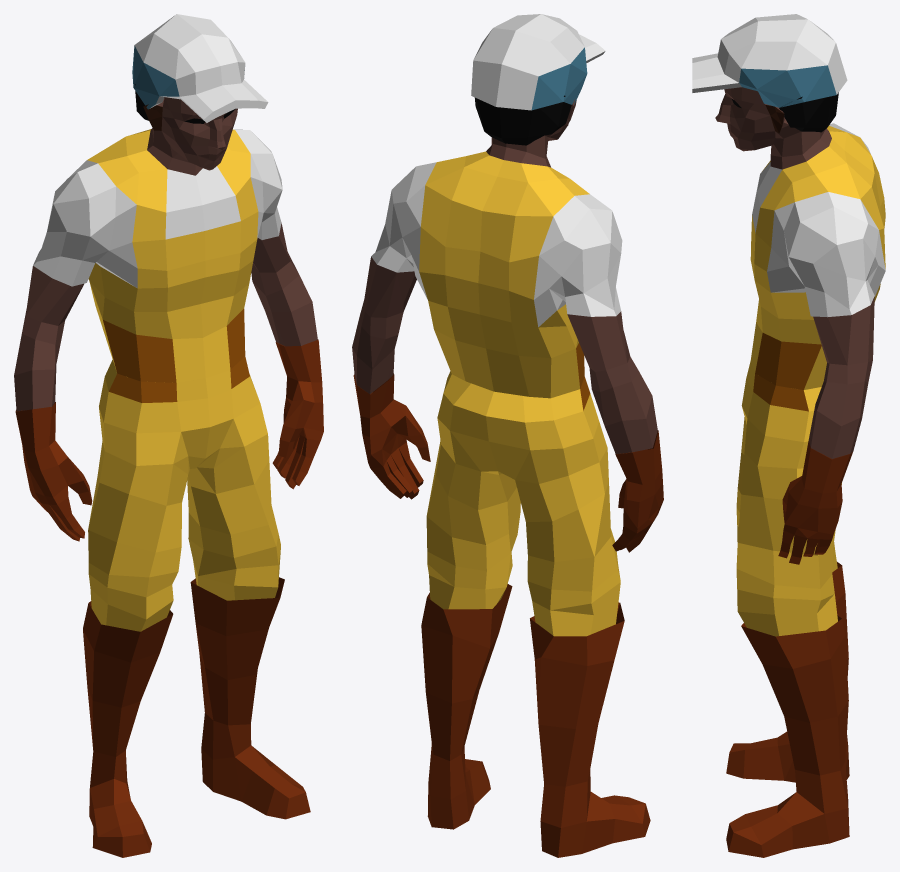
Rendered from Male_05.FBX.
3 views of the same model, side by side, from view 1: azimuth 30°, elevation 25°; view 2: azimuth 150°, elevation 25°; view 3: azimuth 270°, elevation 25° (orthographic).
Visible parts, largest first — view 1: Male_05; view 2: Male_05; view 3: Male_05.
Boxes of the visible parts, left/top/right/bottom form: Male_05: left=14, top=14, right=323, bottom=857; Male_05: left=352, top=14, right=663, bottom=857; Male_05: left=692, top=14, right=885, bottom=857.
Bounding box in the file's own units: 0.712 × 1.81 × 0.4024.
Materials: 1 (1 with a texture image).
